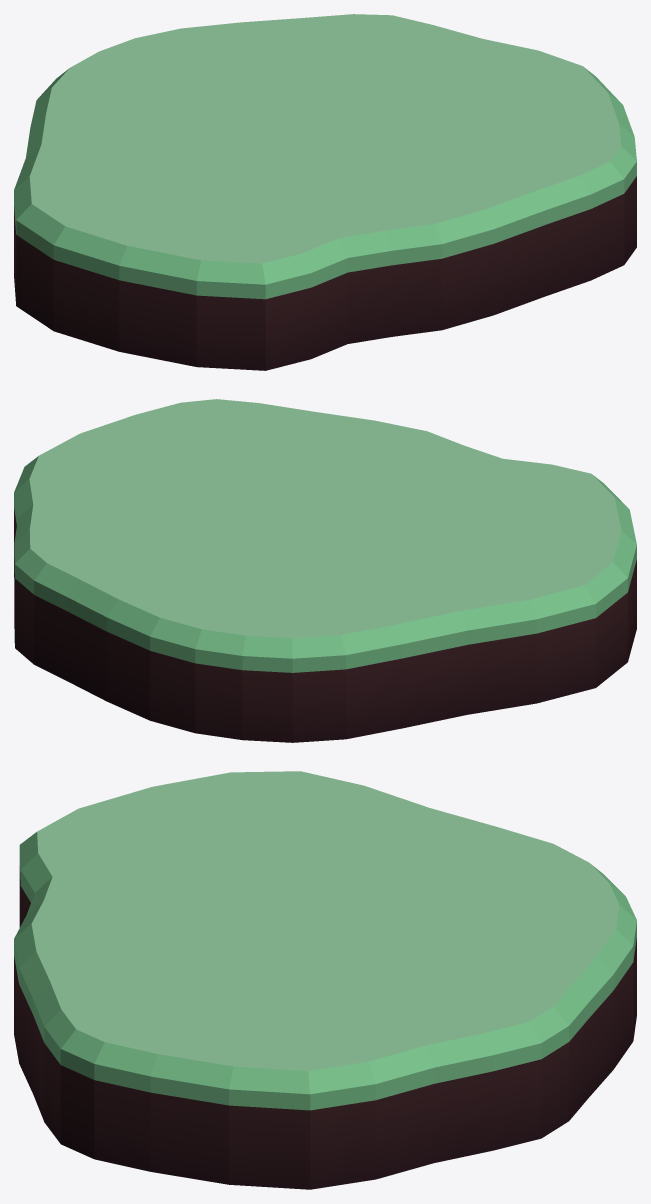
The model's file is BasicIsland.fbx.
3 views of the same model, one above another, from view 1: azimuth 30°, elevation 25°; view 2: azimuth 150°, elevation 25°; view 3: azimuth 270°, elevation 25° (orthographic). The views are drawn at different scales.
Visible parts, largest first — view 1: Ground; view 2: Ground; view 3: Ground.
Part boxes in pixels (bbox=[...]): Ground: bbox=[14, 14, 636, 370]; Ground: bbox=[14, 399, 636, 742]; Ground: bbox=[14, 771, 636, 1189].
Size of the model in its own units: 1466 by 241 by 1226.
